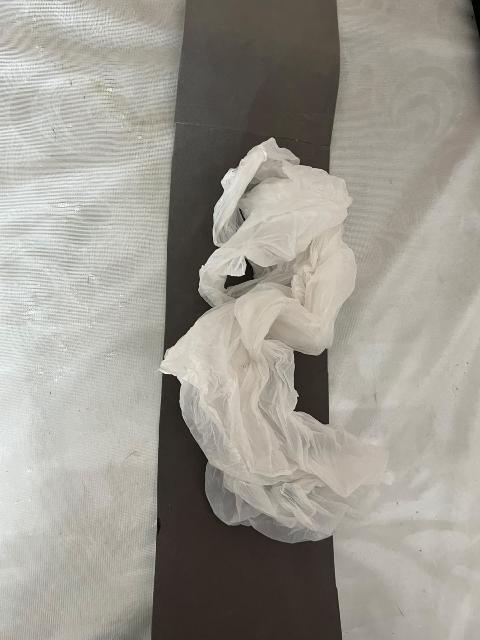LDPE: (120, 62, 451, 584)
